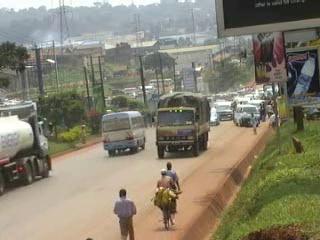Car: (210, 105, 221, 128)
